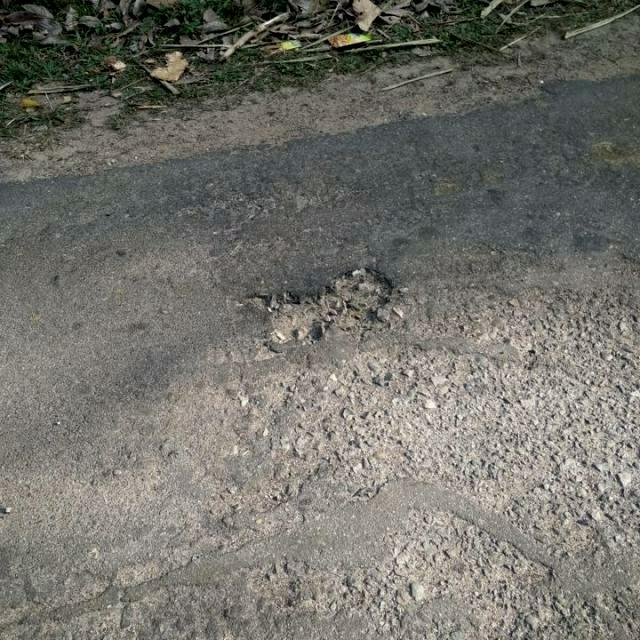Pothole: (252, 262, 397, 347)
